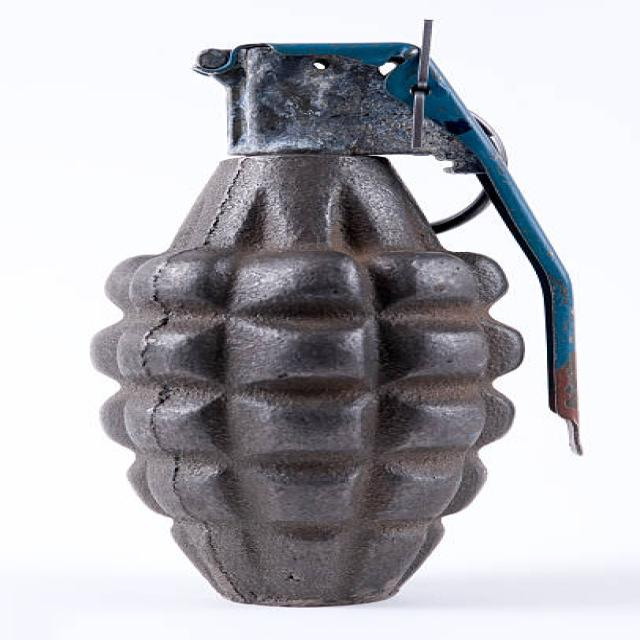grenade: (78, 12, 593, 625)
